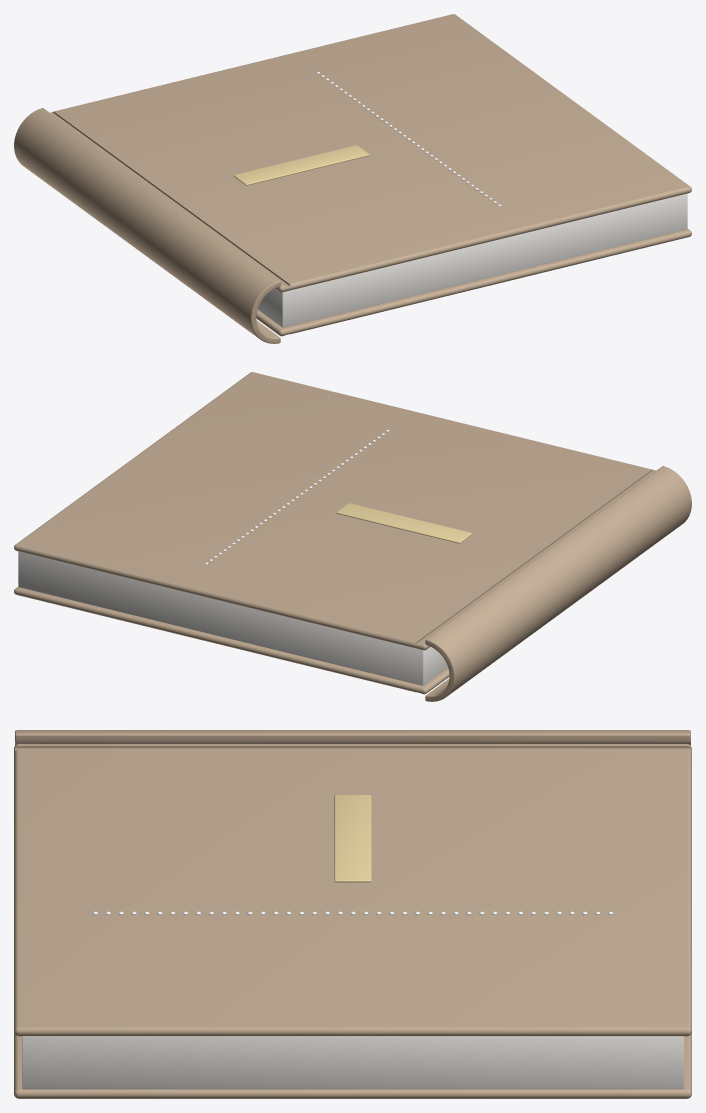
The model's file is swarovski-line--square.glb.
3 renders of one model, top to bottom at view 1: azimuth 30°, elevation 25°; view 2: azimuth 150°, elevation 25°; view 3: azimuth 270°, elevation 25°, orthographic. The views are drawn at different scales.
Parts seen in each view (by area): view 1: CoverFront, Spine, Pages, CoverBack, Plate; view 2: CoverFront, Spine, Pages, CoverBack, Plate; view 3: CoverFront, Pages, Spine, CoverBack, Plate, Crystal.
Boxes of the visible parts, bbox=[...] form: CoverFront: bbox=[50, 14, 691, 292]; Spine: bbox=[14, 108, 280, 343]; Pages: bbox=[258, 193, 687, 327]; CoverBack: bbox=[256, 229, 691, 336]; Plate: bbox=[233, 145, 369, 185]; CoverFront: bbox=[14, 372, 655, 650]; Spine: bbox=[425, 466, 691, 701]; Pages: bbox=[18, 551, 447, 685]; CoverBack: bbox=[14, 587, 449, 694]; Plate: bbox=[336, 503, 472, 543]; CoverFront: bbox=[14, 744, 691, 1036]; Pages: bbox=[22, 1036, 683, 1089]; Spine: bbox=[15, 730, 690, 745]; CoverBack: bbox=[14, 1033, 691, 1098]; Plate: bbox=[334, 795, 371, 882]; Crystal: bbox=[92, 911, 613, 914].
Bounding box in the file's own units: 0.3208 × 0.043 × 0.3.
